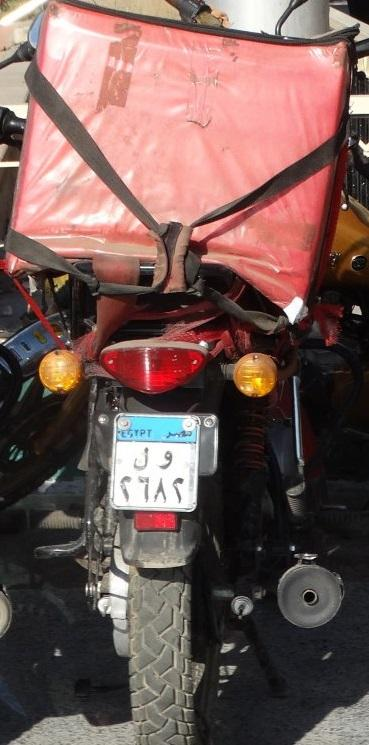License Plate: (113, 408, 198, 514)
